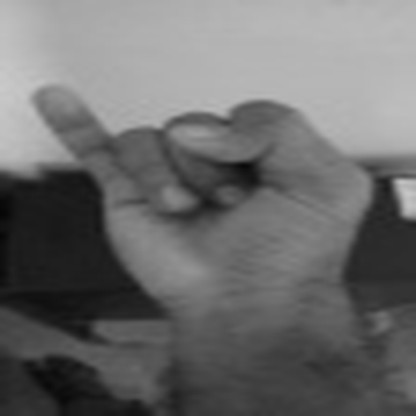i: (20, 74, 381, 298)
